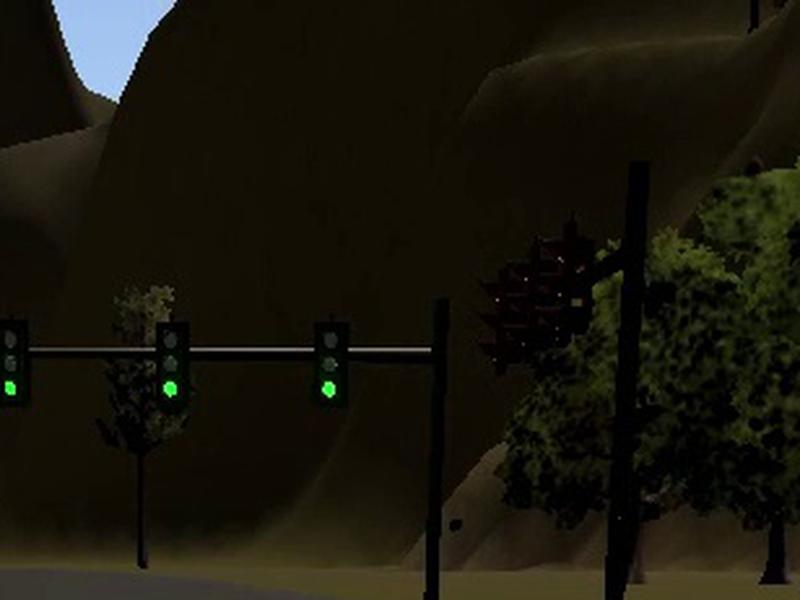Green: (155, 322, 189, 410), (313, 322, 346, 406), (1, 318, 31, 407)
